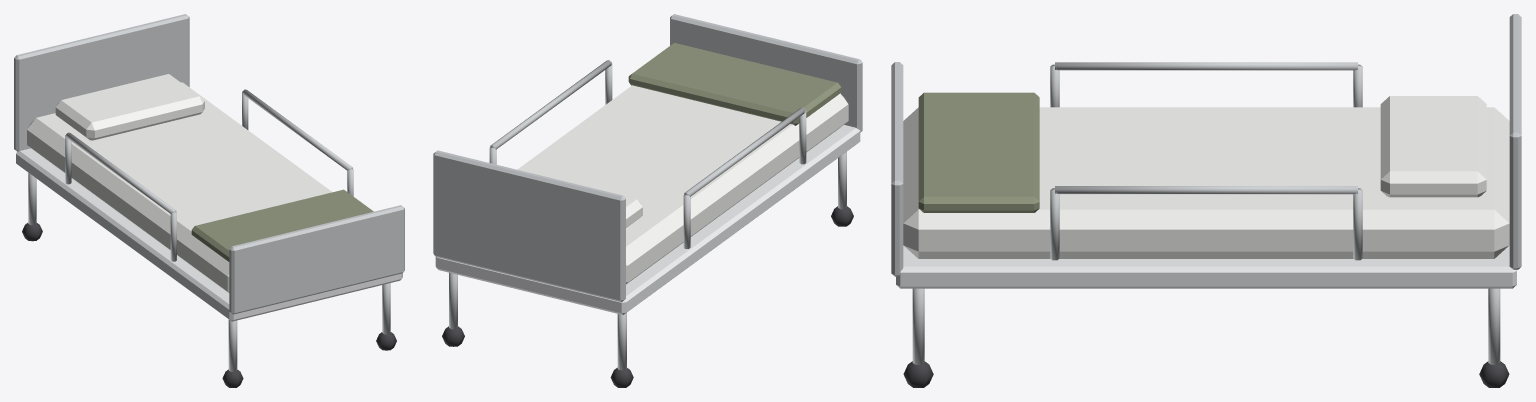
The model's file is v_bp_sickbed.glb.
3 views of the same model, side by side, from view 1: azimuth 30°, elevation 25°; view 2: azimuth 150°, elevation 25°; view 3: azimuth 270°, elevation 25° (orthographic). The views are drawn at different scales.
Parts seen in each view (by area): view 1: SickBed; view 2: SickBed; view 3: SickBed.
Part boxes in pixels (x1,y1,x2,y2): SickBed: [14, 14, 404, 387]; SickBed: [433, 14, 862, 387]; SickBed: [891, 14, 1521, 387].
Size of the model in its own units: 0.992 by 0.95 by 2.08.
